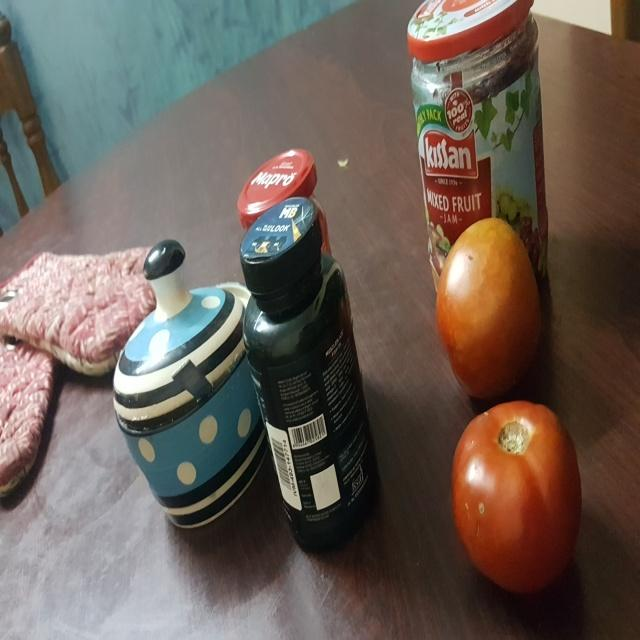tomato: (447, 395, 587, 599), (436, 208, 553, 406)
